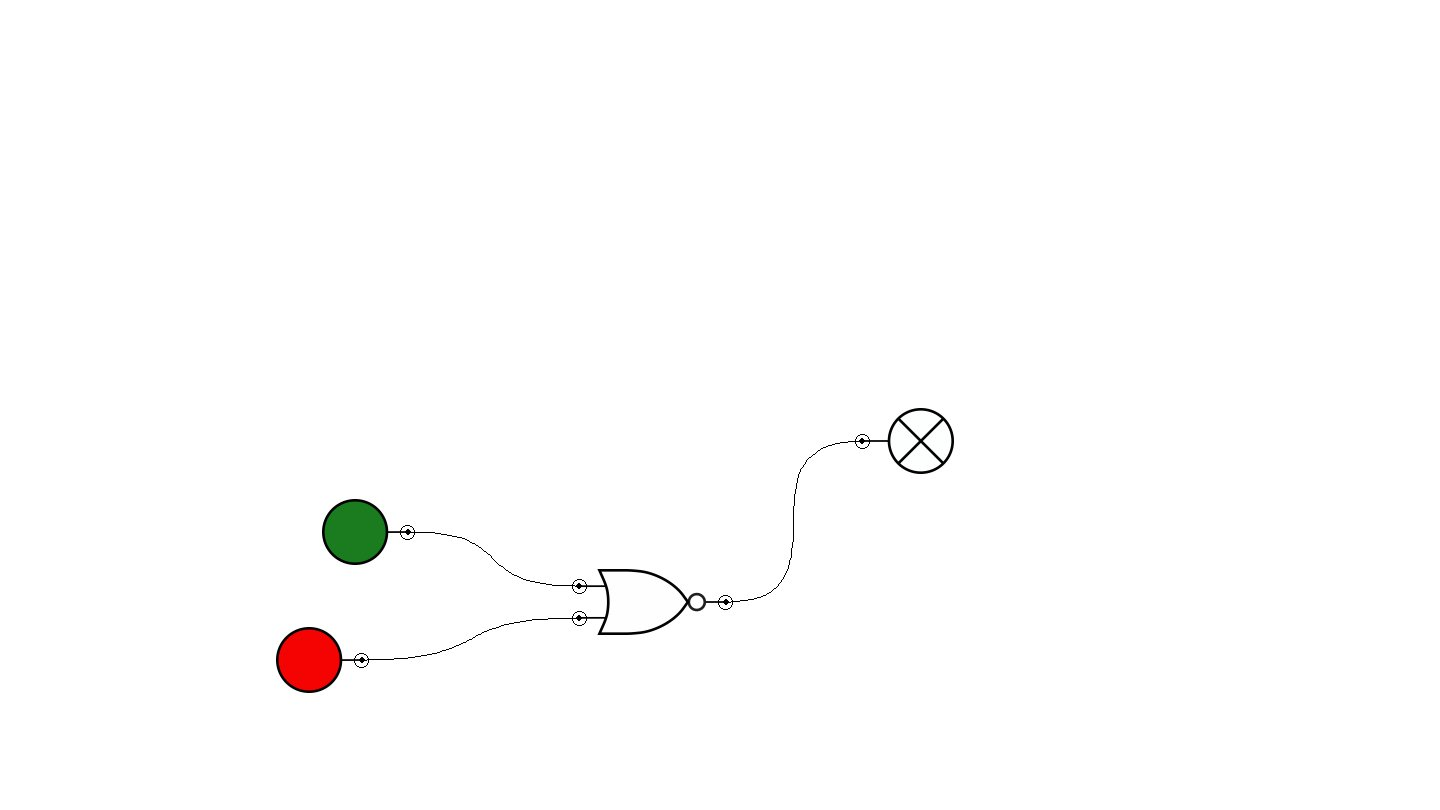bulb: (855, 408, 954, 474)
nor: (572, 569, 733, 635)
switch_False: (276, 627, 369, 693)
switch_True: (322, 499, 415, 565)
